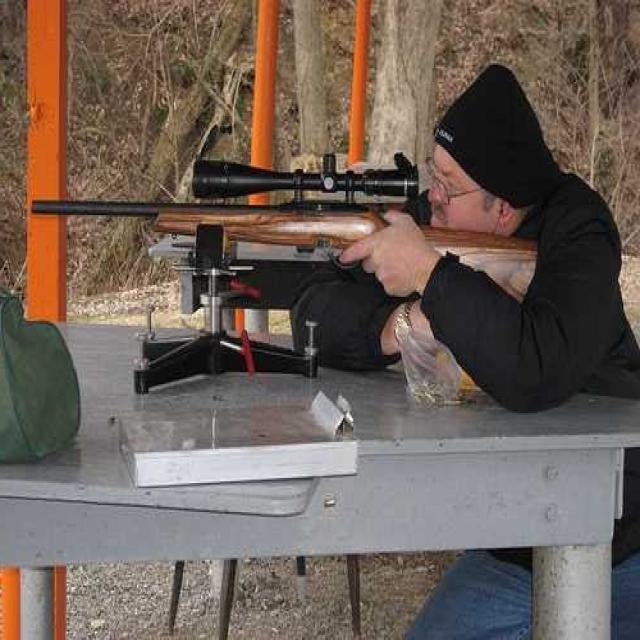heavyweapon: (32, 124, 540, 350)
